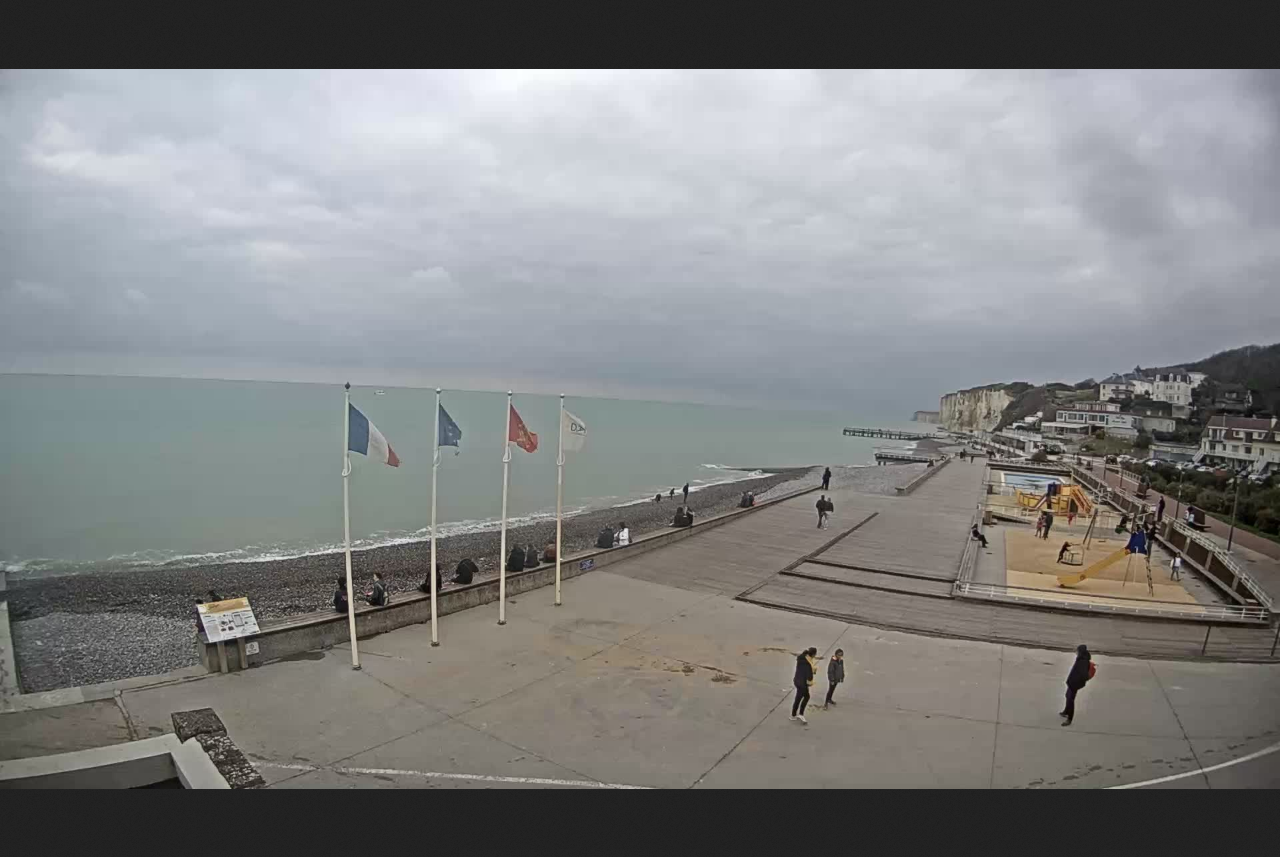maybe: (348, 398, 401, 469), (507, 401, 540, 455), (559, 403, 591, 456), (435, 406, 463, 451)
